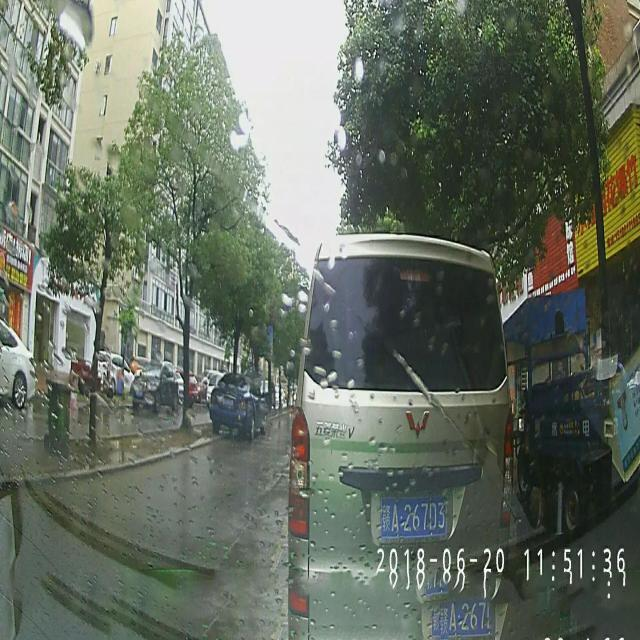car: (288, 235, 516, 630), (208, 368, 266, 439), (0, 310, 36, 410), (130, 363, 178, 413)
